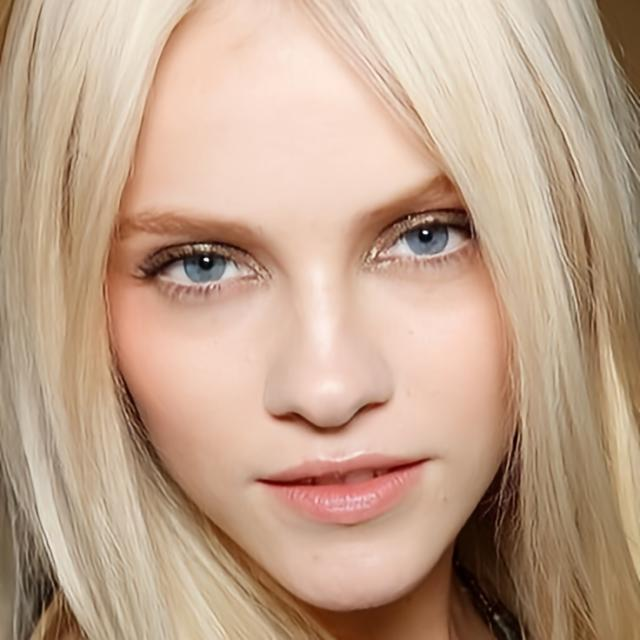neutral: (101, 0, 522, 612)
